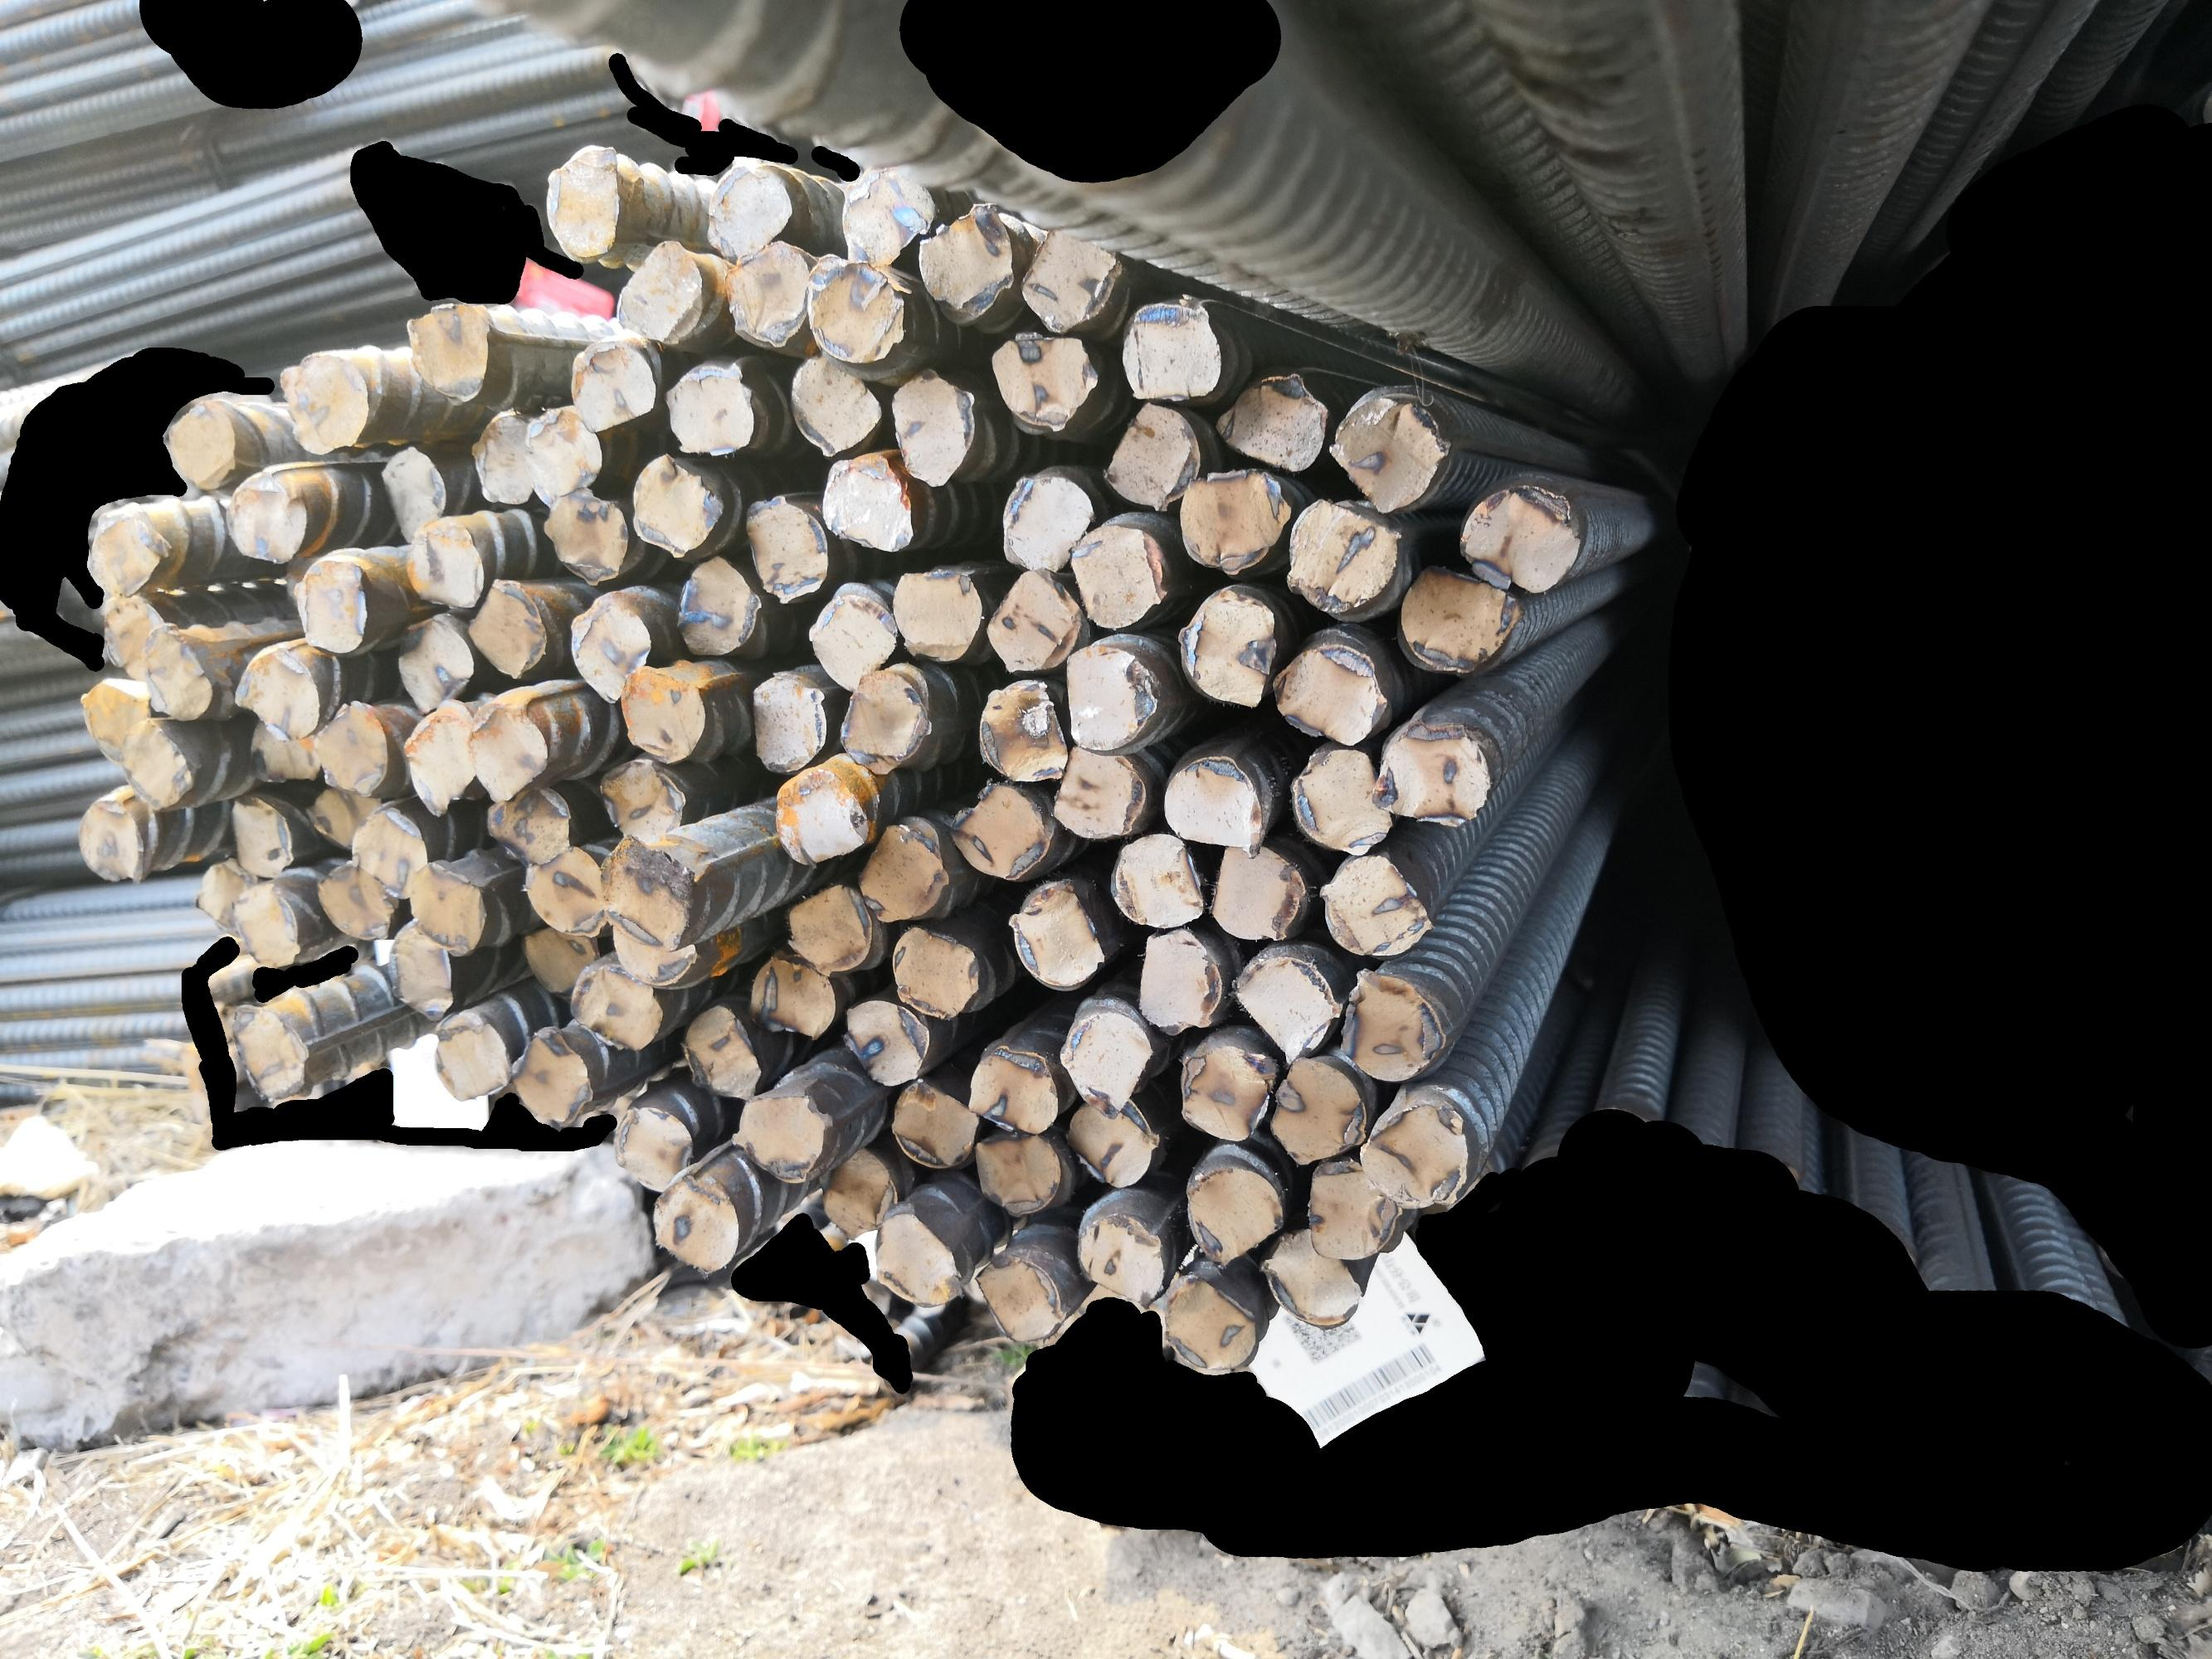bar: (1325, 390, 1452, 518), (1283, 491, 1410, 615), (1454, 477, 1583, 596), (1398, 559, 1529, 676), (1367, 716, 1494, 829), (1335, 965, 1452, 1087), (1354, 1098, 1473, 1213), (1269, 638, 1391, 749), (1227, 950, 1344, 1065), (1175, 465, 1293, 579), (1316, 850, 1440, 958), (1004, 875, 1114, 995), (1173, 584, 1276, 711), (800, 247, 910, 366), (1210, 368, 1330, 476), (913, 197, 1016, 319), (1285, 742, 1394, 856), (1096, 397, 1204, 512), (596, 829, 694, 955), (1157, 751, 1267, 863), (1264, 1053, 1368, 1169), (1257, 1225, 1370, 1331), (1016, 223, 1123, 335), (987, 328, 1100, 432), (1178, 1161, 1288, 1265), (981, 563, 1084, 674), (1067, 521, 1170, 633), (887, 362, 976, 491), (1055, 1009, 1156, 1122), (786, 345, 885, 460), (1175, 1039, 1281, 1145), (835, 159, 940, 267), (948, 777, 1053, 885), (1116, 298, 1224, 403), (626, 450, 725, 563), (1060, 641, 1159, 755), (837, 667, 936, 777), (1306, 1157, 1408, 1262), (818, 450, 919, 556), (882, 920, 988, 1021), (973, 676, 1072, 784), (999, 469, 1098, 577), (274, 345, 371, 455), (1159, 1274, 1262, 1377), (1208, 842, 1311, 945), (1105, 828, 1208, 931), (502, 1025, 601, 1131), (729, 1091, 835, 1190), (608, 234, 706, 342), (722, 235, 812, 350), (739, 490, 830, 605), (401, 295, 497, 403), (648, 1169, 741, 1281), (779, 878, 879, 981), (852, 821, 950, 925), (671, 551, 763, 660), (1072, 1208, 1171, 1309), (675, 999, 765, 1108), (1137, 925, 1225, 1037), (1049, 742, 1149, 842), (1062, 1096, 1164, 1192), (804, 591, 898, 695), (615, 660, 708, 767), (563, 596, 652, 706), (516, 403, 605, 512), (397, 695, 476, 819), (772, 767, 870, 866), (885, 1072, 983, 1171), (868, 1208, 964, 1309), (657, 364, 760, 458), (887, 566, 985, 664), (971, 1249, 1070, 1345), (962, 1040, 1062, 1136), (702, 159, 797, 260), (542, 143, 622, 261), (540, 484, 631, 589), (464, 699, 551, 807), (227, 643, 321, 742), (568, 960, 666, 1053), (567, 338, 659, 436), (746, 667, 828, 777), (519, 842, 608, 943), (403, 854, 488, 958), (594, 753, 689, 847), (221, 467, 310, 566), (312, 695, 394, 802), (838, 995, 931, 1089), (464, 573, 540, 685), (967, 1131, 1063, 1220), (394, 615, 478, 716), (291, 552, 373, 655), (228, 1002, 310, 1103), (744, 953, 838, 1040), (343, 805, 429, 901), (85, 502, 169, 598), (138, 619, 214, 723), (816, 1143, 899, 1239), (610, 1100, 695, 1192), (371, 441, 448, 544), (483, 781, 573, 866), (113, 720, 197, 812), (403, 519, 486, 612), (162, 394, 237, 493), (429, 1014, 511, 1105), (71, 796, 152, 887), (465, 410, 537, 507), (98, 596, 176, 685), (73, 680, 155, 763), (312, 859, 394, 943), (509, 924, 605, 995), (298, 781, 389, 854), (380, 932, 453, 1021), (227, 885, 303, 969), (610, 918, 704, 986), (227, 791, 296, 880), (246, 713, 324, 784), (190, 859, 254, 938)
